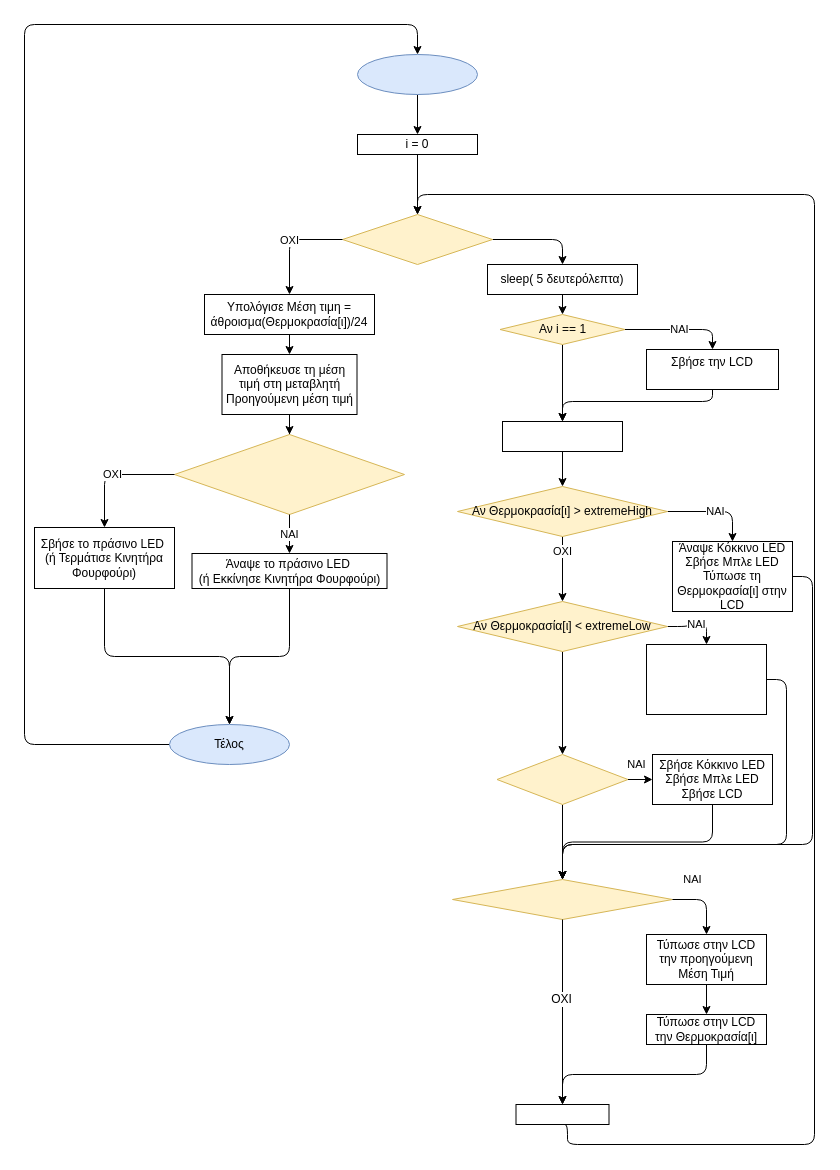
The diagram is 840 pixels wide and 1170 high, and some of its shapes have lost their labels. The shapes that lost their labels are listed below. From the top down, each one's box as (x1, y1, x2, y2) in pixels, then its label:
(356, 54, 478, 94): Αρχή
(342, 214, 492, 264): Αν i < 24
(502, 420, 622, 452): Διάβασε Θερμοκρασία[i]
(174, 434, 404, 514): Αν Μέση Τιμή > extremeFan
(646, 644, 766, 714): Σβήσε Κόκκινο LED Άναψε Μπλε LED Τύπωσε τη Θερμοκρασία[ι] στην LCD
(496, 754, 628, 804): Αλλιώς
(452, 878, 672, 920): Είναι κάποιος κοντά;
(515, 1104, 609, 1124): i = i +1
